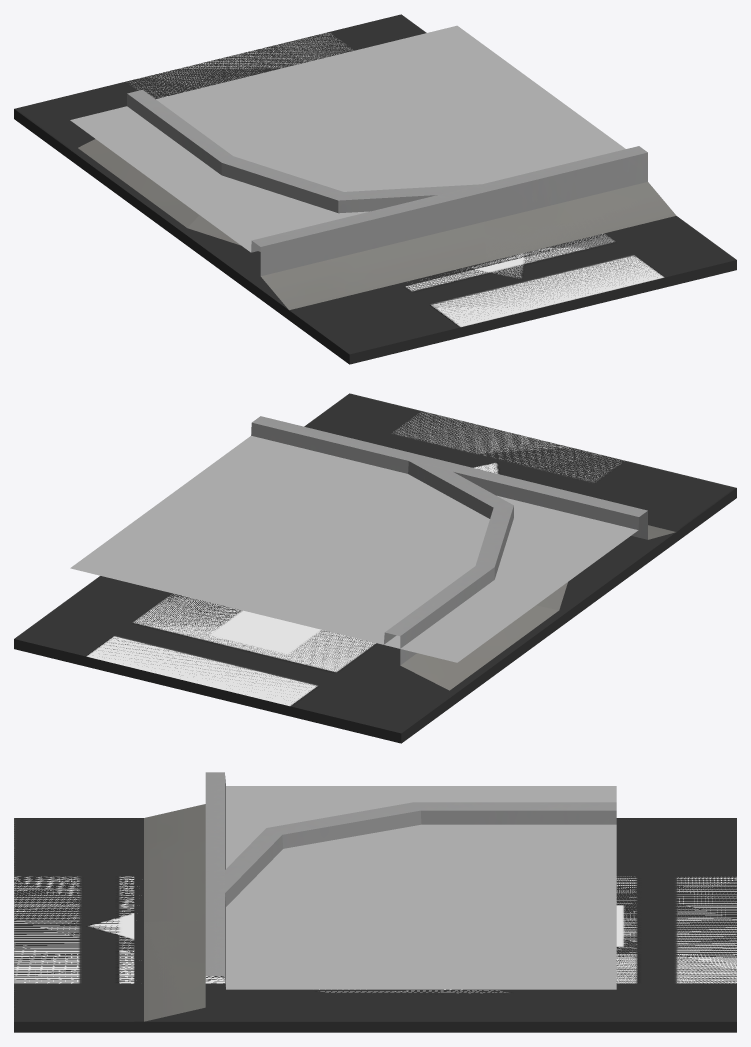
File: flooring.fbx
The picture shows the model from 3 angles, top to bottom: view 1: azimuth 30°, elevation 25°; view 2: azimuth 150°, elevation 25°; view 3: azimuth 270°, elevation 25°; orthographic projection. The views are drawn at different scales.
Visible parts, largest first — view 1: pavementCorner, pCube36, plainRoad1, plainRoad2; view 2: pavementCorner, plainRoad1, pCube36, plainRoad2; view 3: pCube36, pavementCorner, plainRoad1, plainRoad2.
Boxes of the visible parts, x1,y1,x2,y2 form: pavementCorner: (70, 25, 659, 323); pCube36: (70, 26, 676, 310); plainRoad1: (14, 17, 736, 364); plainRoad2: (14, 14, 724, 341); pavementCorner: (70, 417, 677, 701); plainRoad1: (14, 396, 736, 743); pCube36: (119, 416, 680, 662); plainRoad2: (20, 393, 736, 739); pCube36: (134, 772, 616, 1021); pavementCorner: (134, 802, 616, 1016); plainRoad1: (14, 818, 736, 1032); plainRoad2: (14, 818, 736, 1021).
Size of the model in its own units: 200 by 25.89 by 300.
1 material, 1 textured.
